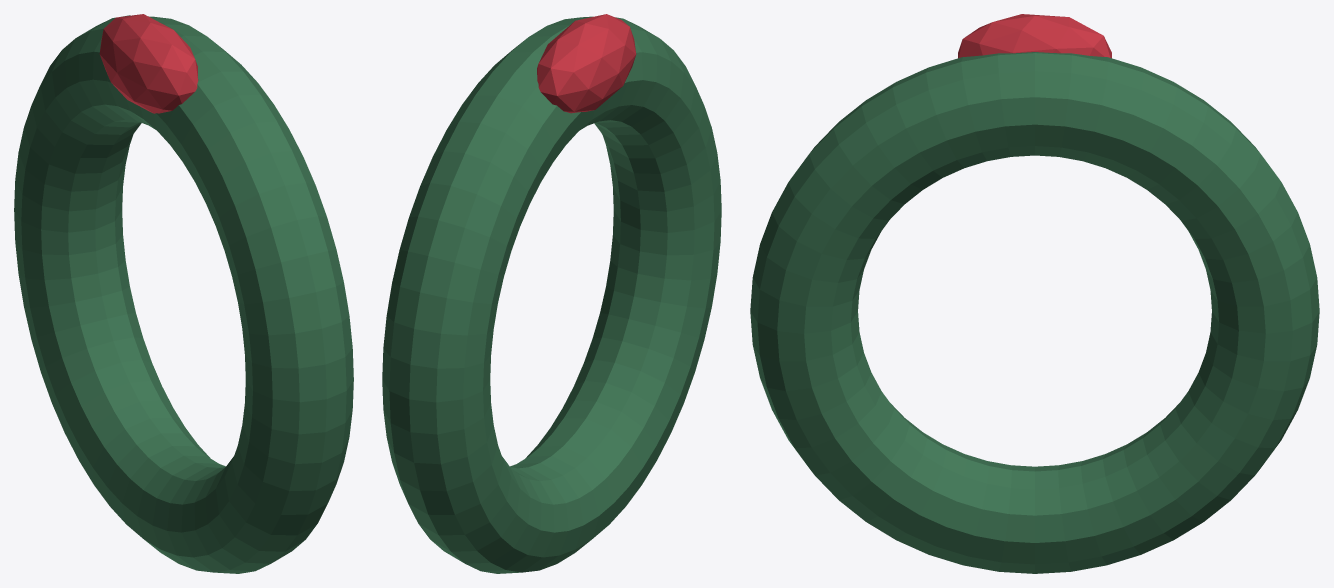
File: Wreath.glb
3 renders of one model, left to right at view 1: azimuth 30°, elevation 25°; view 2: azimuth 150°, elevation 25°; view 3: azimuth 270°, elevation 25°, orthographic.
Visible parts, largest first — view 1: WreathRing, WreathBow; view 2: WreathRing, WreathBow; view 3: WreathRing, WreathBow.
Part boxes in pixels (left/top/right/bottom): WreathRing: left=14, top=15, right=353, bottom=573; WreathBow: left=99, top=14, right=198, bottom=113; WreathRing: left=382, top=16, right=721, bottom=573; WreathBow: left=537, top=14, right=636, bottom=113; WreathRing: left=750, top=52, right=1319, bottom=573; WreathBow: left=958, top=14, right=1111, bottom=58.
Bounding box in the file's own units: 0.17 × 0.77 × 0.74.
